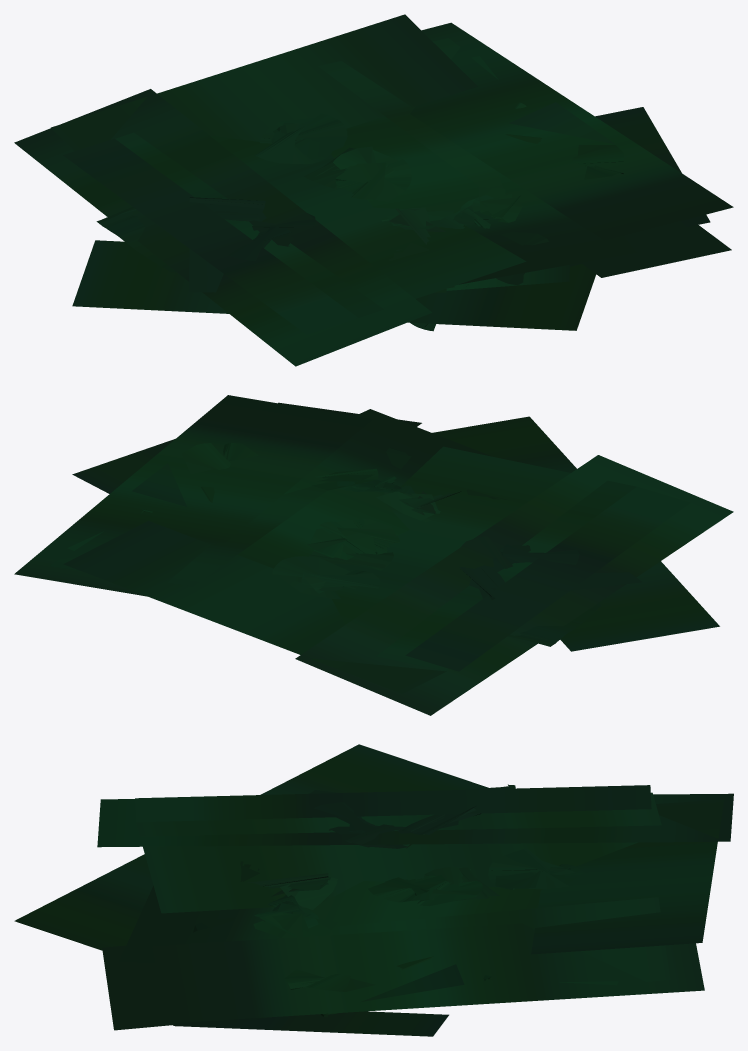
3 views of the same model, one above another, from view 1: azimuth 30°, elevation 25°; view 2: azimuth 150°, elevation 25°; view 3: azimuth 270°, elevation 25° (orthographic). The views are drawn at different scales.
Visible parts, largest first — view 1: Patch001; view 2: Patch001; view 3: Patch001.
Part boxes in pixels (x1,y1,x2,y2): Patch001: [14, 14, 733, 366]; Patch001: [14, 395, 733, 715]; Patch001: [14, 744, 733, 1036].
Bounding box in the file's own units: 1.6 × 0.1796 × 1.51.
